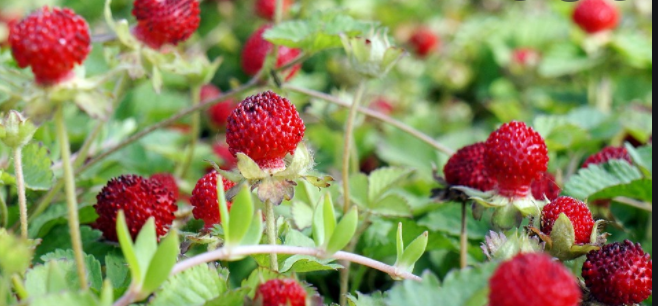ripe: (9, 5, 93, 86), (225, 88, 306, 165), (92, 173, 177, 245), (483, 120, 553, 198), (485, 250, 582, 304), (190, 167, 267, 235), (579, 237, 650, 303), (440, 141, 519, 200), (241, 22, 307, 84), (129, 0, 203, 50), (539, 199, 600, 247), (578, 145, 639, 176), (197, 78, 230, 133), (251, 277, 309, 305), (569, 1, 621, 30), (406, 29, 439, 57)
